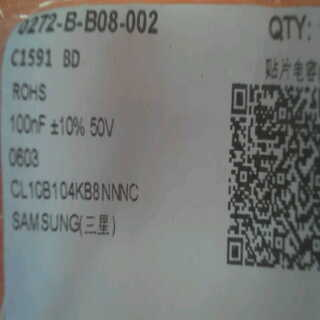100nF: (5, 110, 49, 140)
